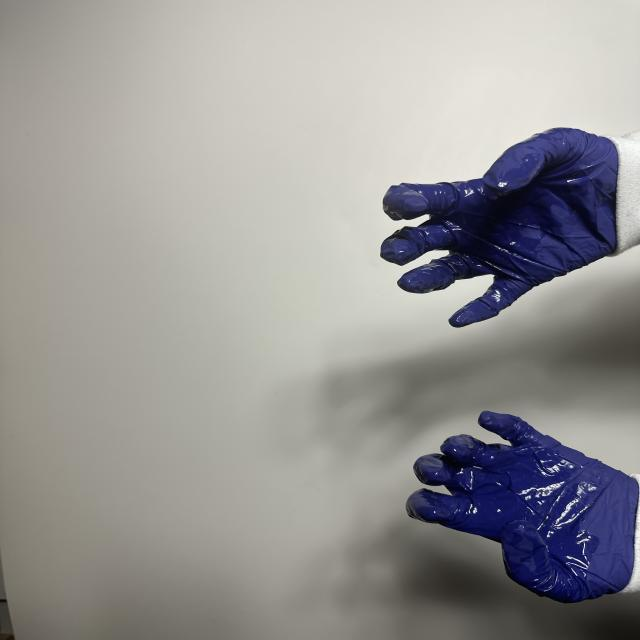gloves_contaminated: (381, 128, 619, 327), (407, 412, 638, 602)
